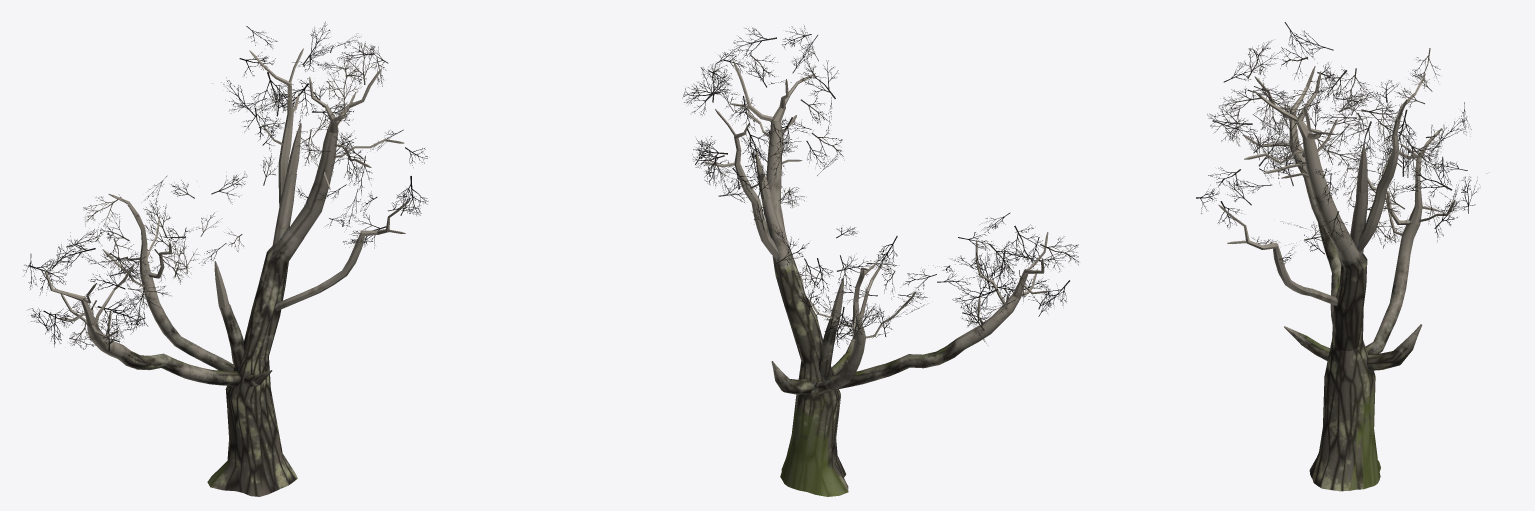
File: struck_oak.glb
The picture shows the model from 3 angles, left to right: view 1: azimuth 30°, elevation 25°; view 2: azimuth 150°, elevation 25°; view 3: azimuth 270°, elevation 25°; orthographic projection. The views are drawn at different scales.
Visible parts, largest first — view 1: struck_oak_LOD0, struck_oak_cards_LOD0; view 2: struck_oak_LOD0, struck_oak_cards_LOD0; view 3: struck_oak_LOD0, struck_oak_cards_LOD0.
Part boxes in pixels (x1,y1,x2,y2): struck_oak_LOD0: (44, 48, 409, 496); struck_oak_cards_LOD0: (23, 21, 428, 350); struck_oak_LOD0: (704, 60, 1049, 496); struck_oak_cards_LOD0: (682, 25, 1078, 347); struck_oak_LOD0: (1218, 66, 1455, 491); struck_oak_cards_LOD0: (1196, 22, 1486, 264).
Size of what is drawn, in the model's own units: 17.12 by 13.71 by 9.06.
Materials: 2 (2 with a texture image).
